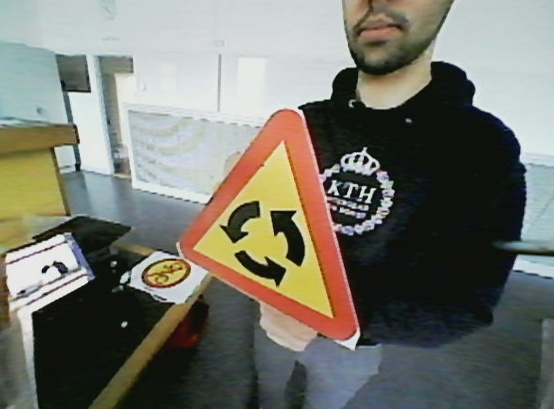roundabout_warning: (172, 100, 372, 350)
